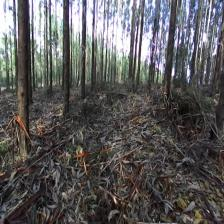trunk: (15, 3, 28, 144), (162, 5, 177, 95), (147, 13, 159, 91), (135, 14, 144, 86), (64, 8, 69, 106), (81, 13, 86, 99), (90, 26, 94, 87), (49, 23, 52, 92)
